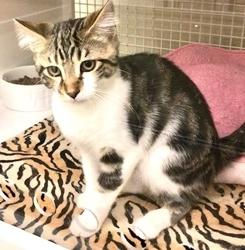bengal: (12, 1, 127, 109)
